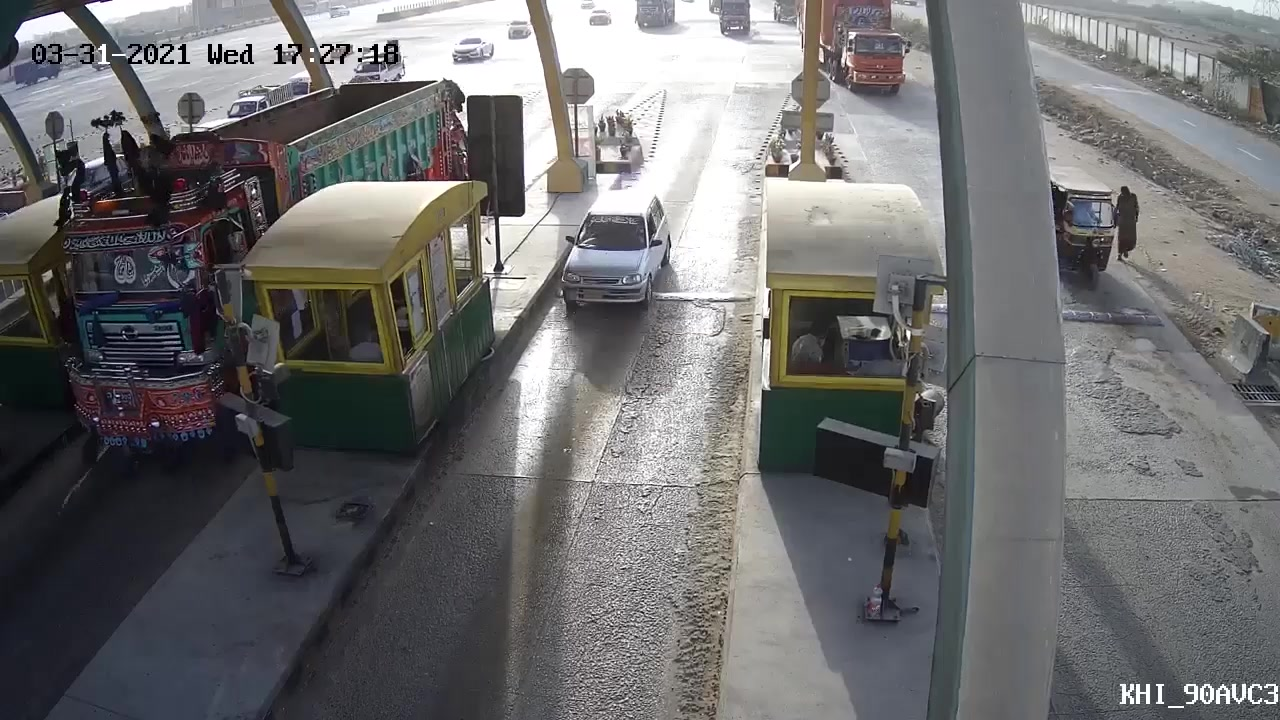F1: (553, 188, 676, 305)
